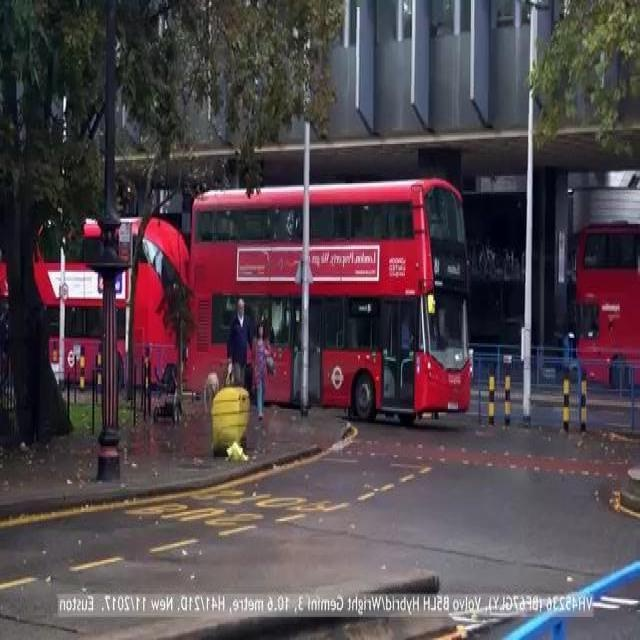bus: (112, 125, 506, 429)
